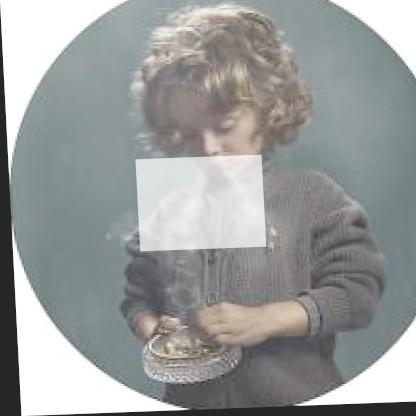smoke: (134, 157, 263, 252)
